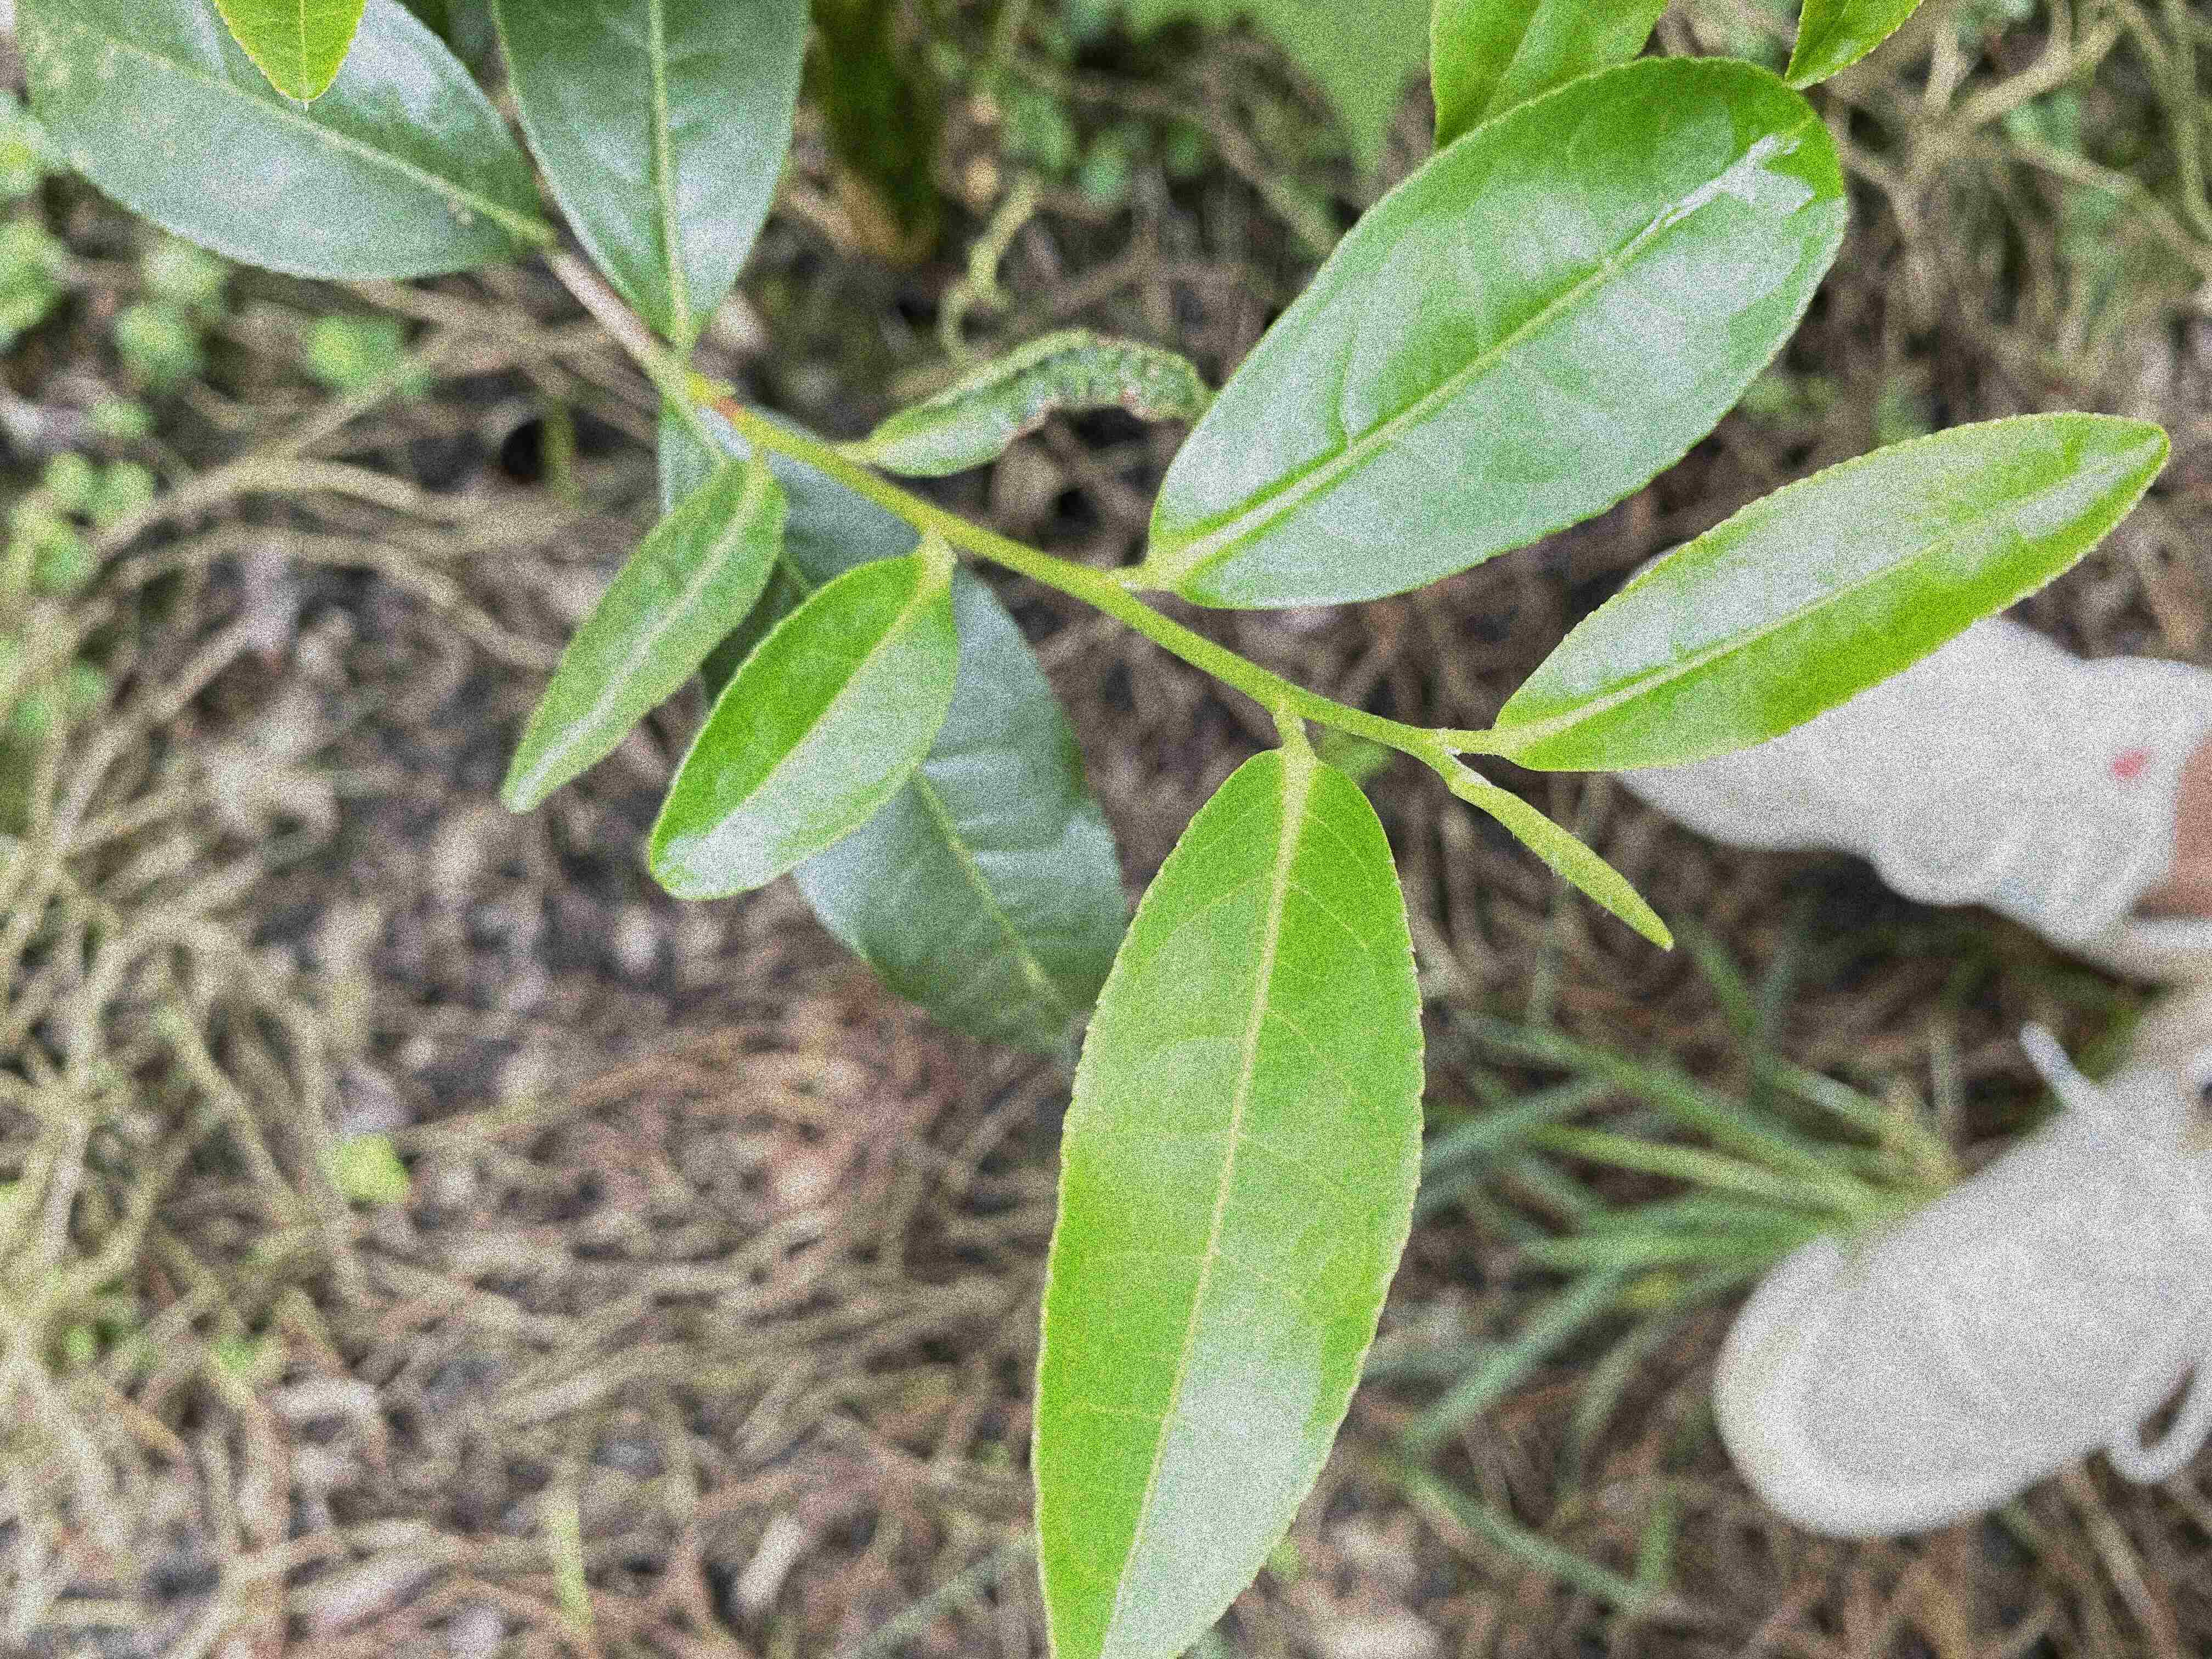chihuo_high: (862, 324, 1216, 479)
healthy: (1148, 52, 1850, 612), (1026, 751, 1430, 1656), (1496, 408, 2168, 775), (644, 554, 958, 899)
